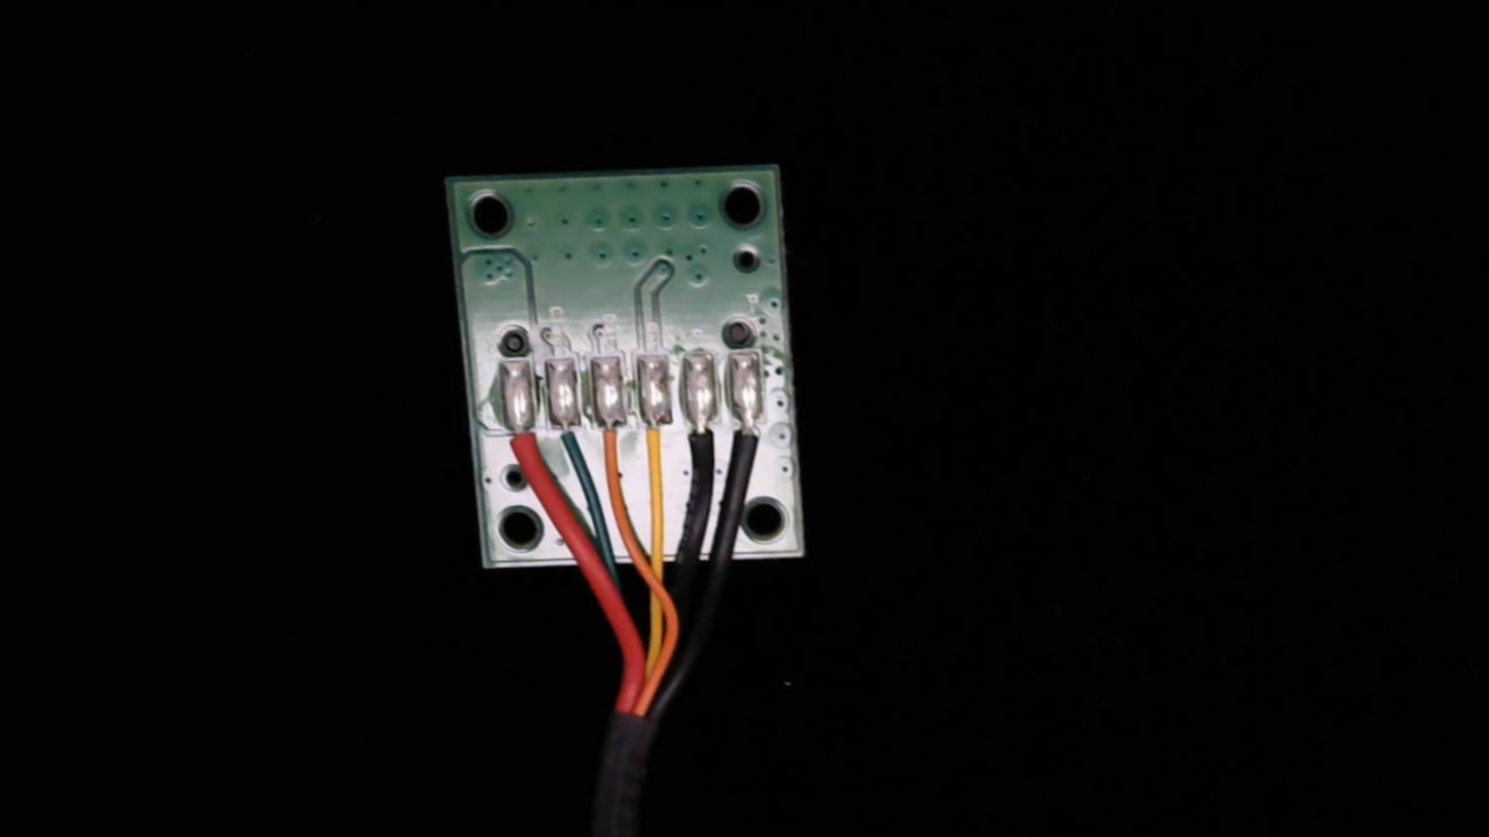Black: (680, 400, 723, 487)
Black1: (730, 395, 772, 476)
Green: (546, 402, 584, 473)
Orange: (592, 405, 631, 488)
Red: (499, 406, 543, 490)
Yellow: (637, 402, 680, 491)
